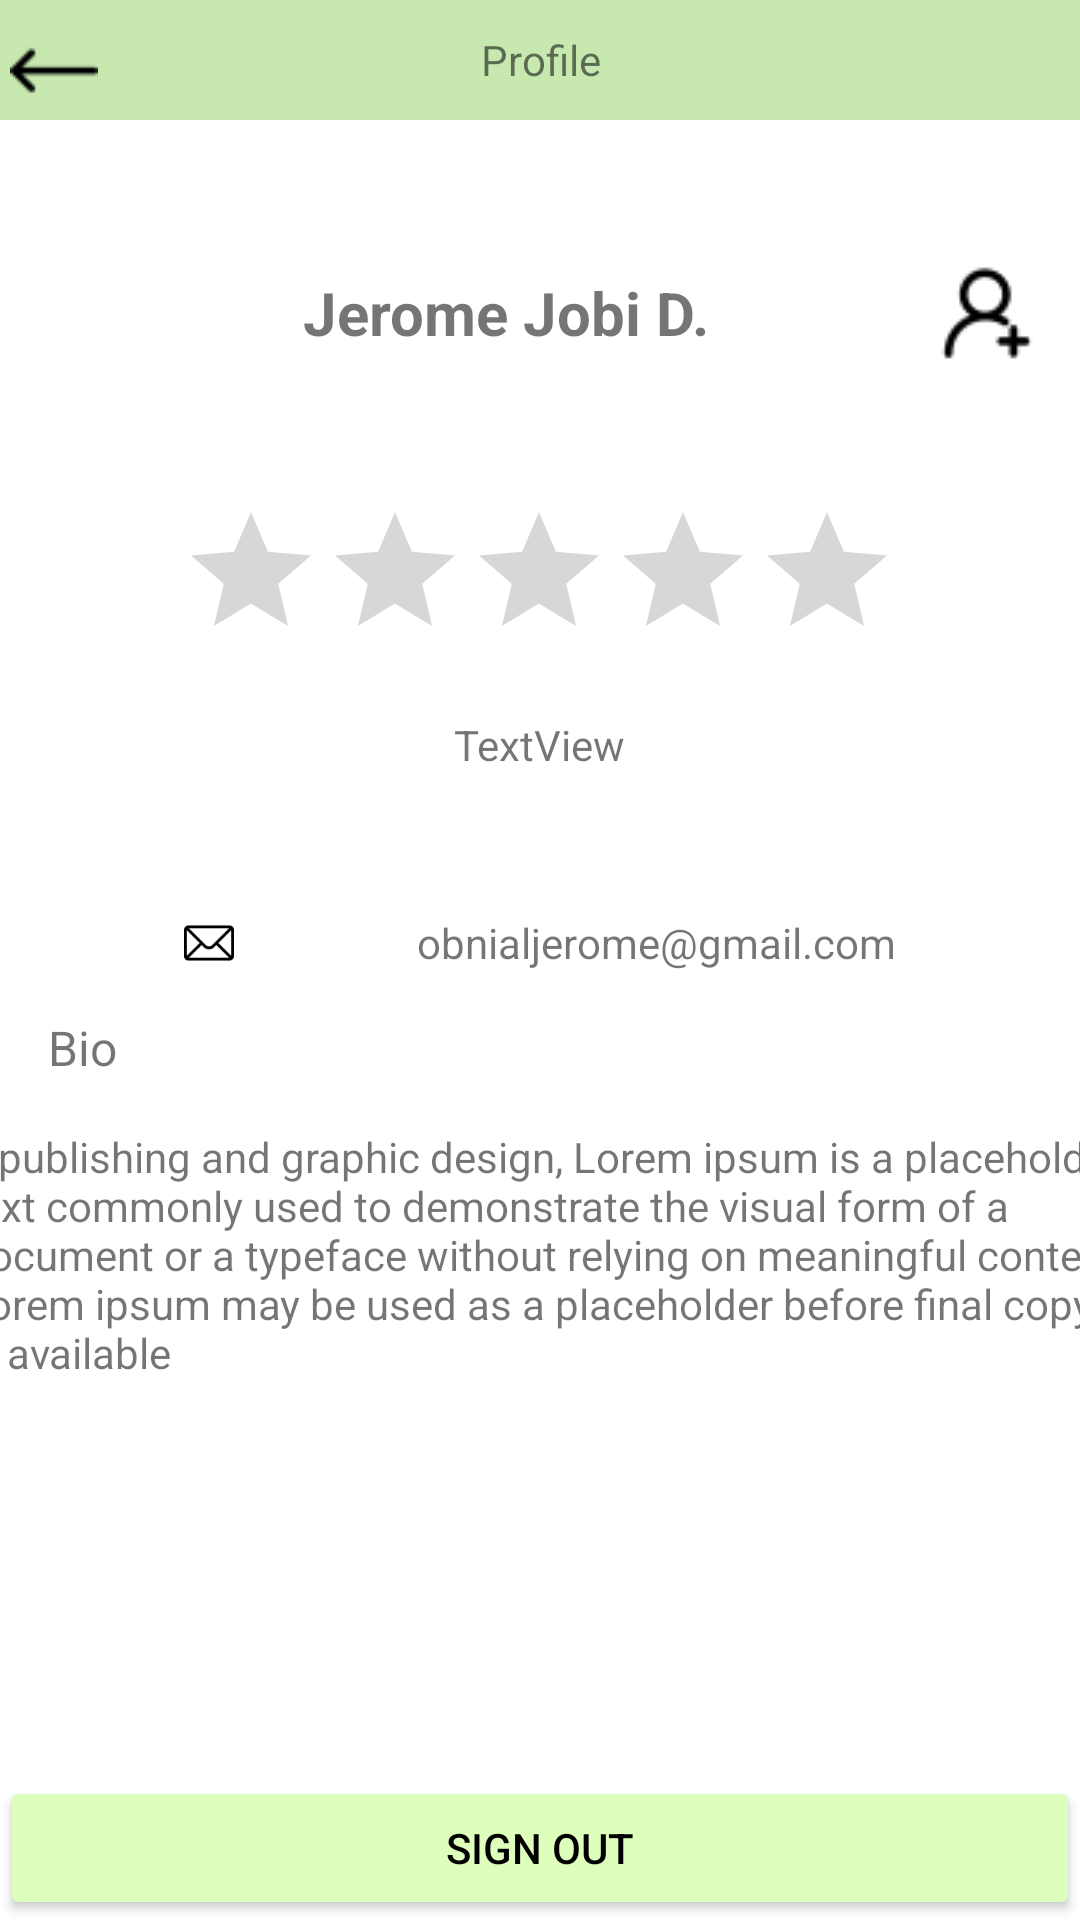

Icons on this 1080 × 1920 Android screen, each with the point to tap as point (x, y):
back arrow: point (54, 70)
